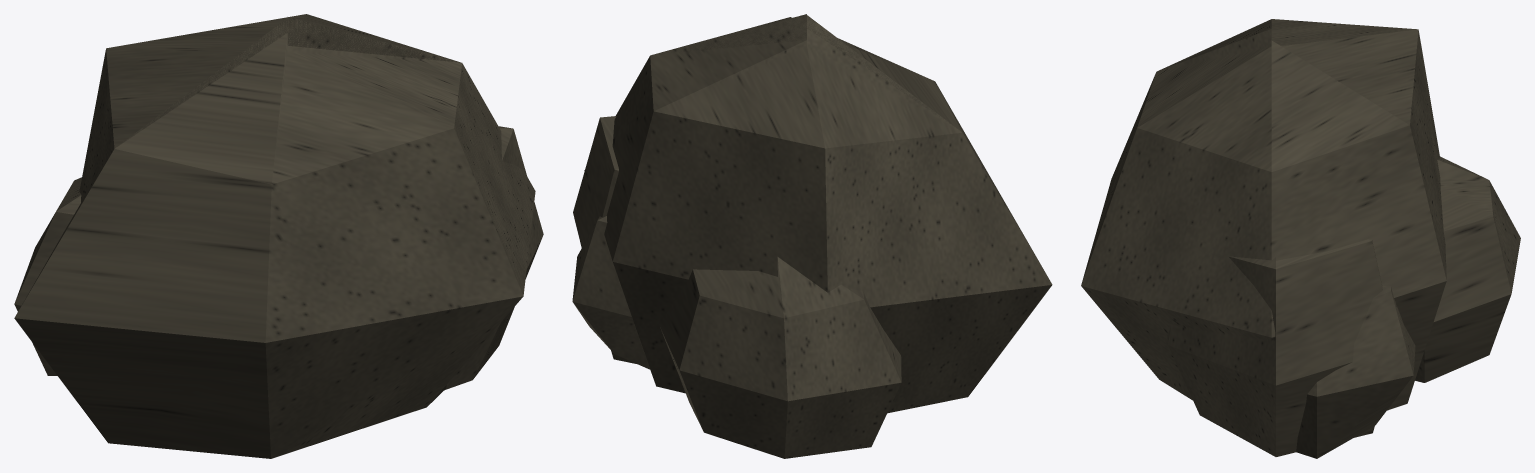
The model's file is PROP-A00CEBC2C86C_lod2.glb.
3 views of the same model, side by side, from view 1: azimuth 30°, elevation 25°; view 2: azimuth 150°, elevation 25°; view 3: azimuth 270°, elevation 25° (orthographic). The views are drawn at different scales.
Parts seen in each view (by area): view 1: rock.009; view 2: rock.009; view 3: rock.009.
Boxes of the visible parts, <box> form: rock.009: <box>14,14,543,458</box>; rock.009: <box>572,14,1052,458</box>; rock.009: <box>1081,19,1520,458</box>.
Bounding box in the file's own units: 1.48 × 1.02 × 1.16.
1 material, 1 textured.
